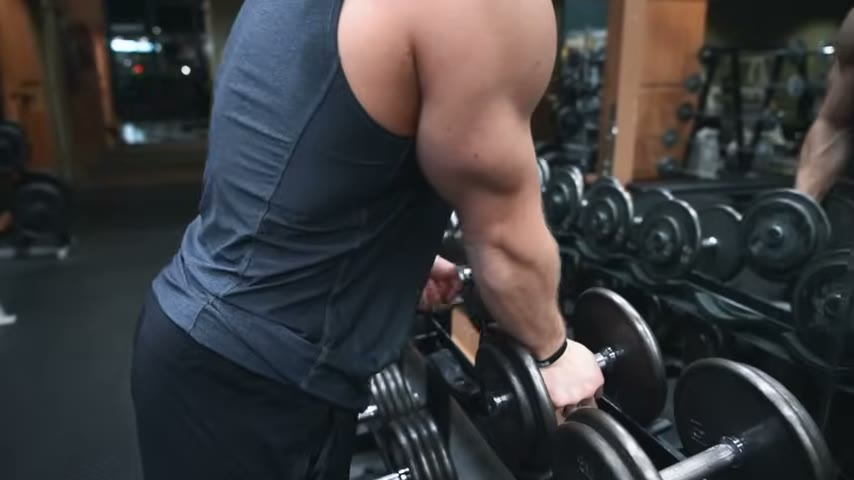barbell_plate_side: (739, 141, 854, 480), (542, 166, 614, 479)
